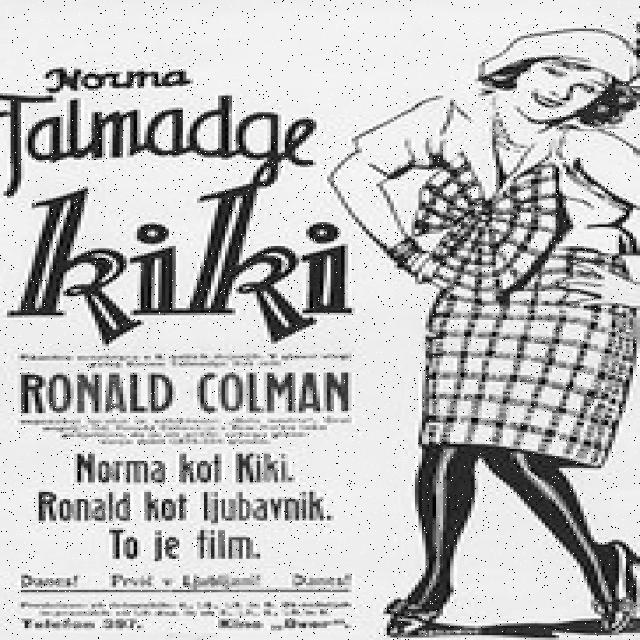movie-judul: (1, 49, 362, 572)
picture: (323, 18, 640, 638)
